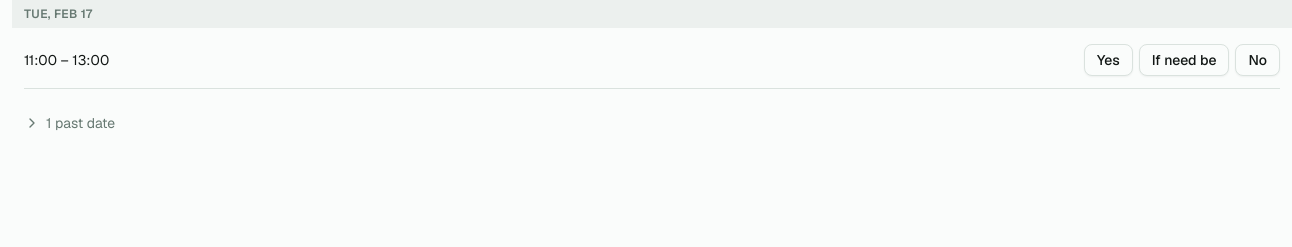
Test: AvailabilityForm – past/future partitioning › reveals past slots as disabled when toggle is clicked
Expected: the number of buttons "Yes" is 1, left=1084, top=44, right=1133, bottom=76
Click the button "1 past date" at (70, 123), box left=12, top=105, right=127, bottom=141
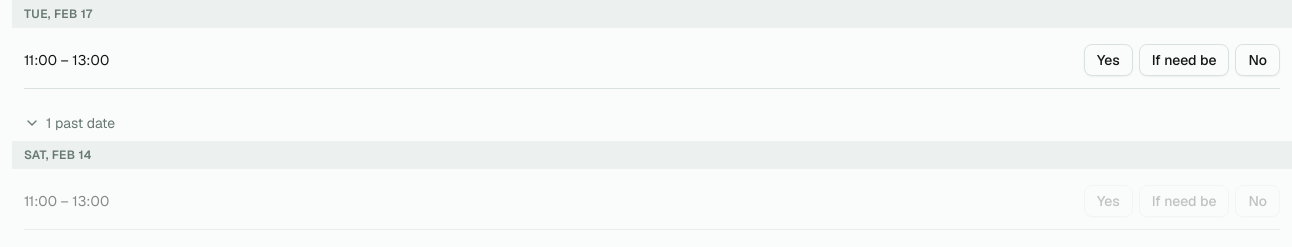
Expected: the 1st button "Yes" is enabled, left=1084, top=44, right=1133, bottom=76
Now the number of buttons "Yes" is 2, box left=1084, top=44, right=1133, bottom=76; left=1084, top=185, right=1133, bottom=217
Now the 2nd button "Yes" is disabled, box left=1084, top=185, right=1133, bottom=217
